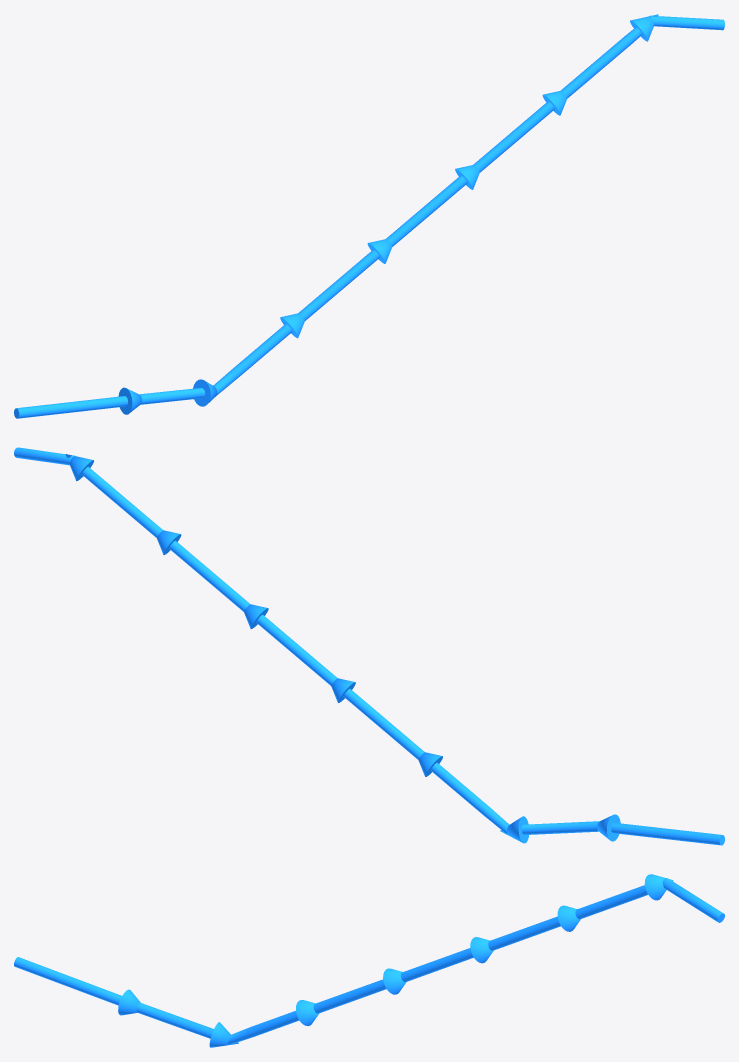
File: archimedes_screw_pump_flow.glb
3 renders of one model, top to bottom at view 1: azimuth 30°, elevation 25°; view 2: azimuth 150°, elevation 25°; view 3: azimuth 330°, elevation 25°, orthographic.
Parts seen in each view (by area): view 1: flow_water; view 2: flow_water; view 3: flow_water.
Boxes of the visible parts, <box> form: flow_water: <box>14,14,724,418</box>; flow_water: <box>14,447,724,845</box>; flow_water: <box>14,874,724,1047</box>.
Size of the model in its own units: 4.63 by 1.74 by 0.2488.
